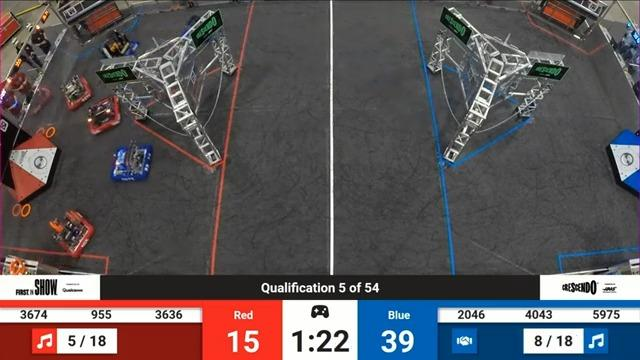robot: (42, 209, 104, 268), (78, 93, 122, 141), (110, 144, 156, 183), (92, 27, 137, 64), (58, 74, 93, 110), (180, 16, 219, 46)
